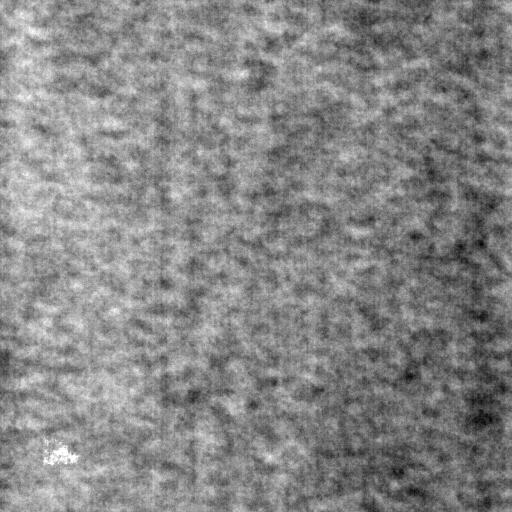DefectTypeA: (40, 436, 86, 470)
